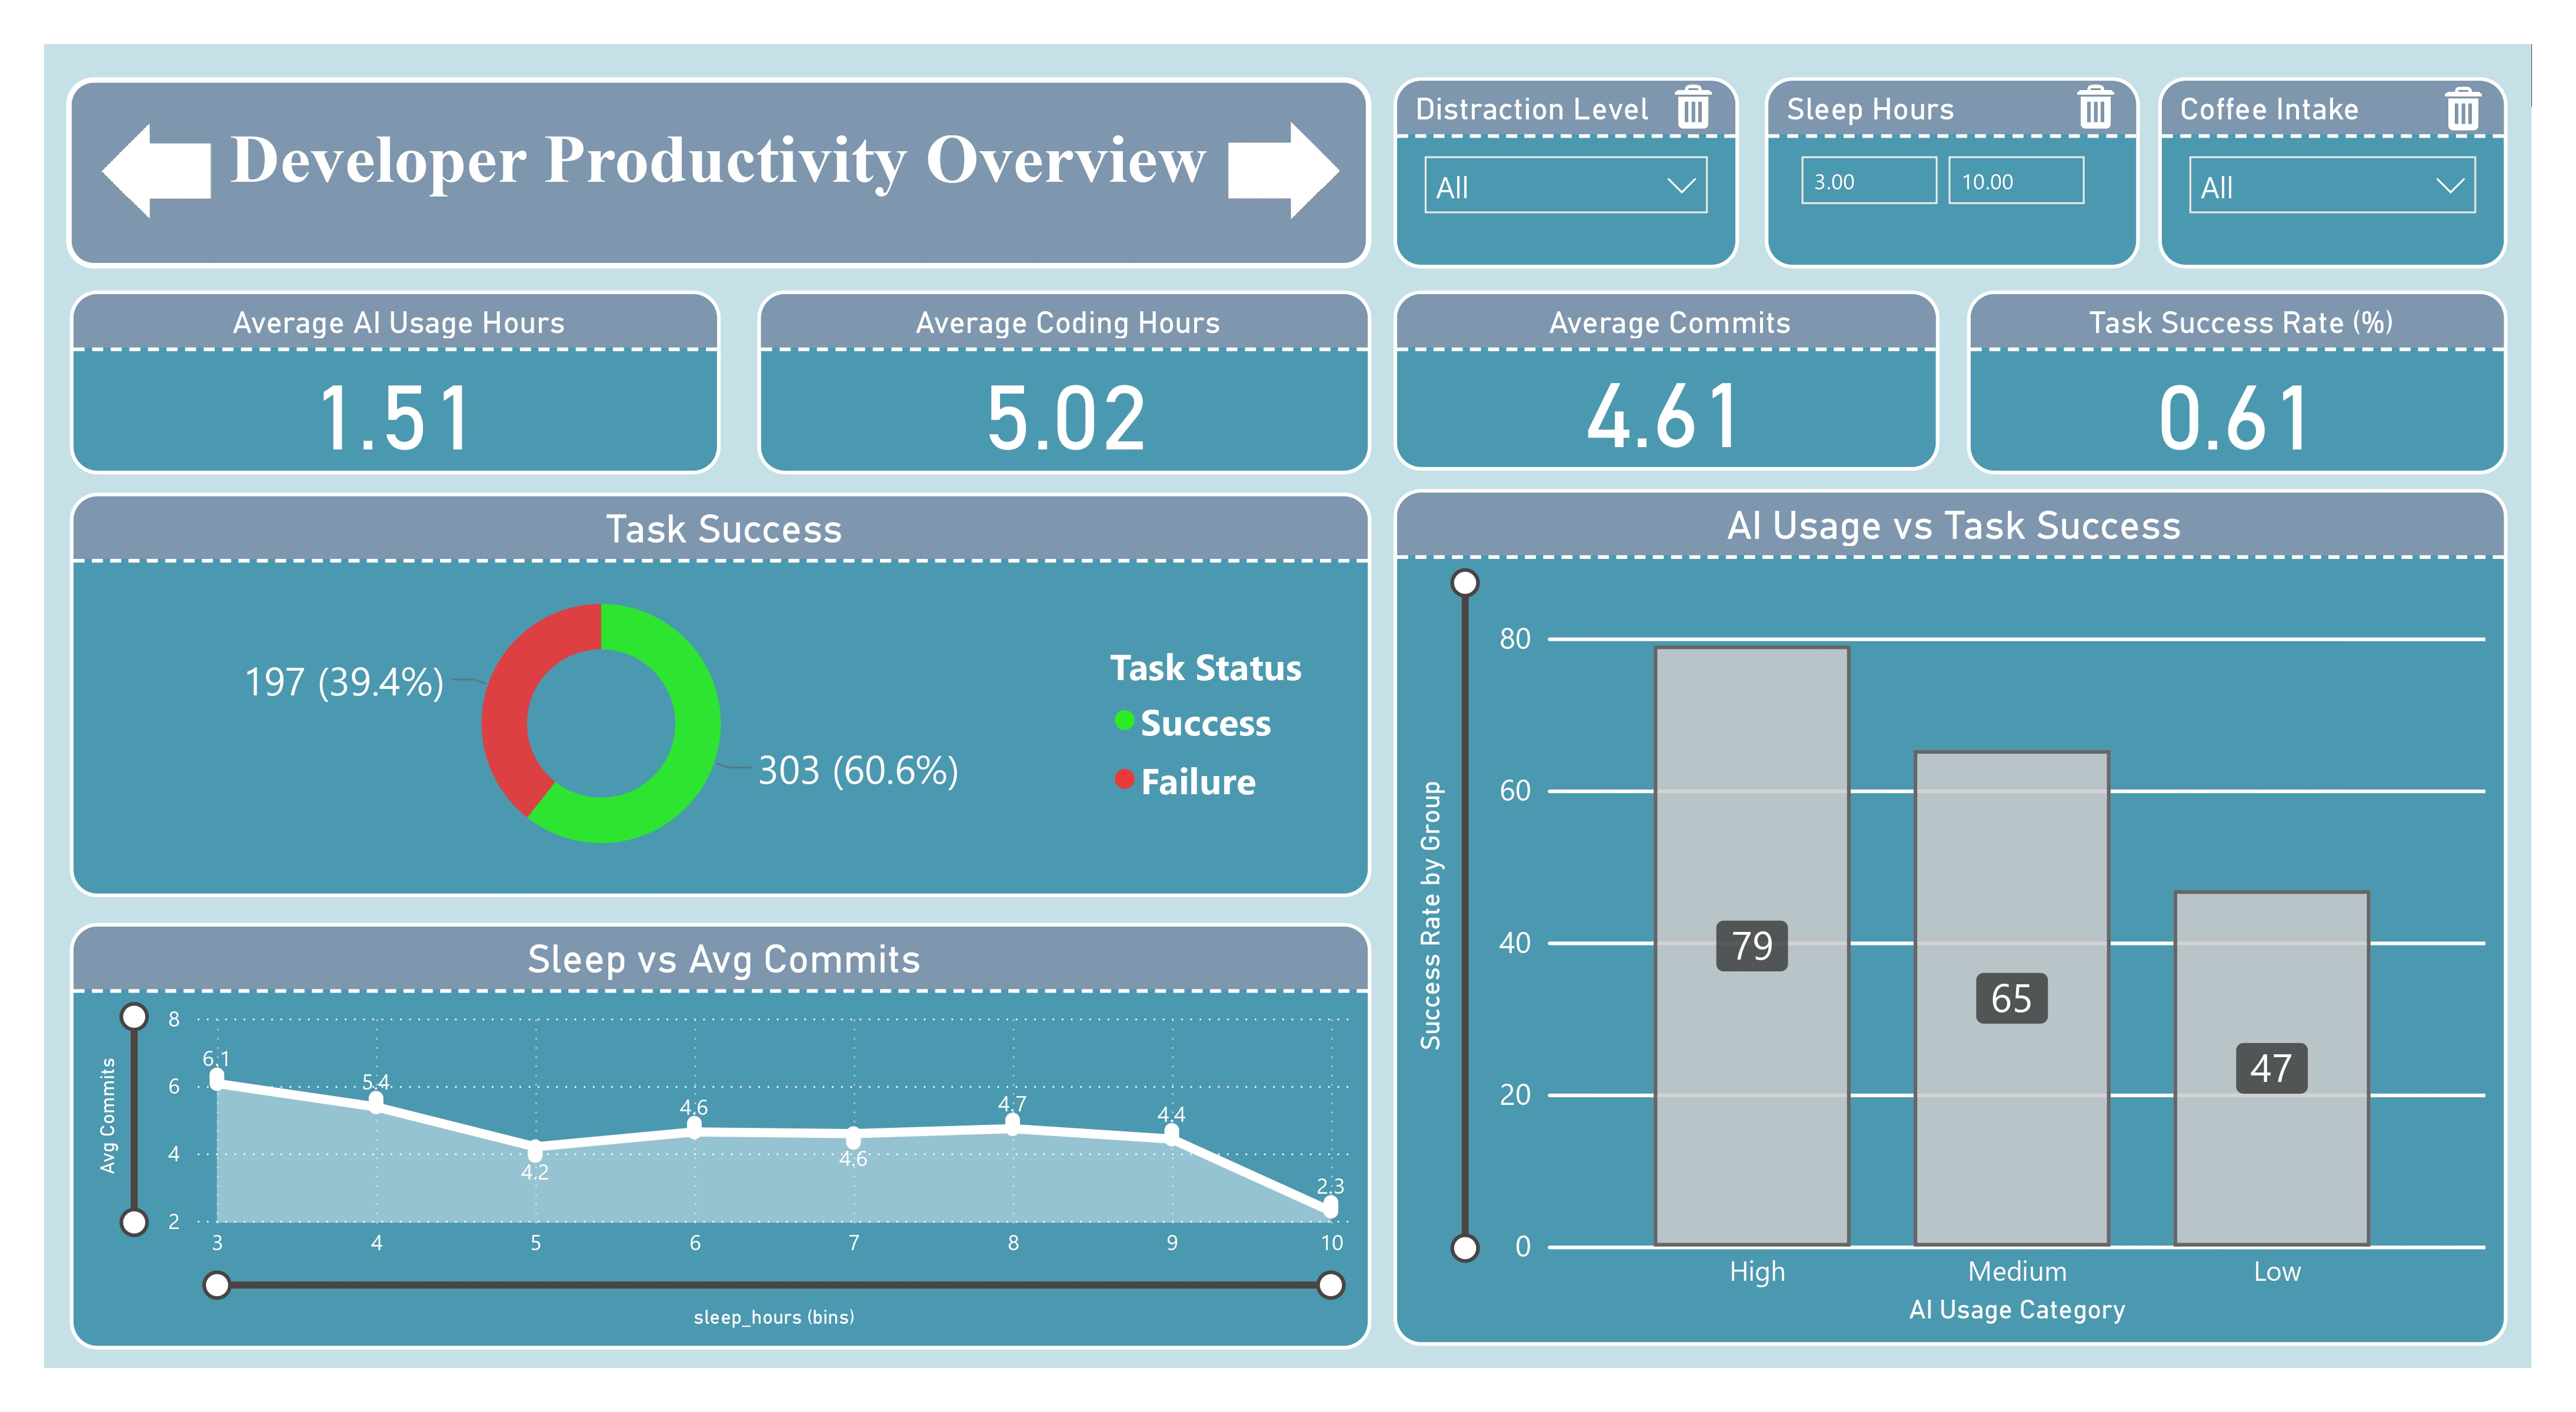

The dashboard page shown, as its layout file describes it:
{"tool":"powerbi","page":{"name":"Developer Productivity Overview","canvas":[1353,720],"ordinal":1},"visuals":[{"type":"textbox","box":[12,18,710,104],"z":0},{"type":"card","title":"Average AI Usage Hours","fields":{"Values":["ai_dev_productivity (1).Avg AI Usage"]},"box":[14,134,354,100],"z":1000},{"type":"card","title":"Average Coding Hours","fields":{"Values":["ai_dev_productivity (1).Avg Coding Hours"]},"box":[388,134,334,100],"z":2000},{"type":"card","title":"Average Commits","fields":{"Values":["ai_dev_productivity (1).Avg Commits"]},"box":[734.5,134.1,296.2,97.8],"z":3000},{"type":"card","title":"Task Success Rate (%)","fields":{"Values":["ai_dev_productivity (1).Task Success Rate"]},"box":[1046,134,294,100],"z":4000},{"type":"clusteredColumnChart","title":"AI Usage vs Task Success","fields":{"Category":["ai_dev_productivity (1).AI Usage Category"],"Y":["ai_dev_productivity (1).Success Rate by Group"]},"box":[734,242,606,466],"z":5000},{"type":"lineChart","title":"Sleep vs Avg Commits","fields":{"Category":["ai_dev_productivity (1).sleep_hours (bins)"],"Y":["ai_dev_productivity (1).Avg Commits"]},"box":[14,478,708,232],"z":6000},{"type":"donutChart","title":"Task Success","fields":{"Y":["CountNonNull(ai_dev_productivity (1).task_success)"],"Category":["ai_dev_productivity (1).Task Status"]},"box":[14,244,708,220],"z":7000},{"type":"slicer","title":"Distraction Level","fields":{"Values":["ai_dev_productivity (1).distractions"]},"box":[734,18,188,104],"z":8000},{"type":"slicer","title":"Coffee Intake","fields":{"Values":["ai_dev_productivity (1).coffee_intake_mg"]},"box":[1150,18,190,104],"z":9000},{"type":"slicer","title":"Sleep Hours","fields":{"Values":["ai_dev_productivity (1).sleep_hours"]},"box":[936,18,204,104],"z":10000},{"type":"image","box":[14,34,94,70],"z":11000},{"type":"image","box":[627.2,33.5,94.9,70.7],"z":12000},{"type":"image","box":[872.3,16.9,49.2,33.8],"z":13000},{"type":"image","box":[1090.8,16.9,49.2,33.8],"z":14000},{"type":"image","box":[1290.8,17.7,49.2,33.8],"z":15000}]}

Visuals, with their boxes in screenshot pixels (x1, y1, x2, y2):
textbox: 66, 77, 1372, 268
"Average AI Usage Hours" card: 70, 291, 721, 474
"Average Coding Hours" card: 758, 291, 1372, 474
"Average Commits" card: 1395, 291, 1940, 471
"Task Success Rate (%)" card: 1967, 291, 2508, 474
"AI Usage vs Task Success" clusteredColumnChart: 1394, 489, 2508, 1346
"Sleep vs Avg Commits" lineChart: 70, 923, 1372, 1350
"Task Success" donutChart: 70, 493, 1372, 897
"Distraction Level" slicer: 1394, 77, 1739, 268
"Coffee Intake" slicer: 2158, 77, 2508, 268
"Sleep Hours" slicer: 1765, 77, 2140, 268
image: 70, 106, 243, 235
image: 1197, 106, 1372, 236
image: 1648, 75, 1738, 137
image: 2050, 75, 2140, 137
image: 2418, 76, 2508, 139
